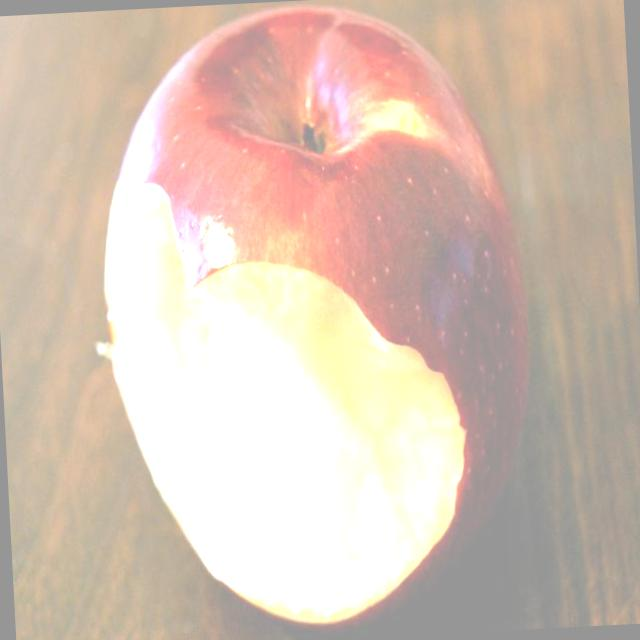Apple: (82, 0, 545, 638)
